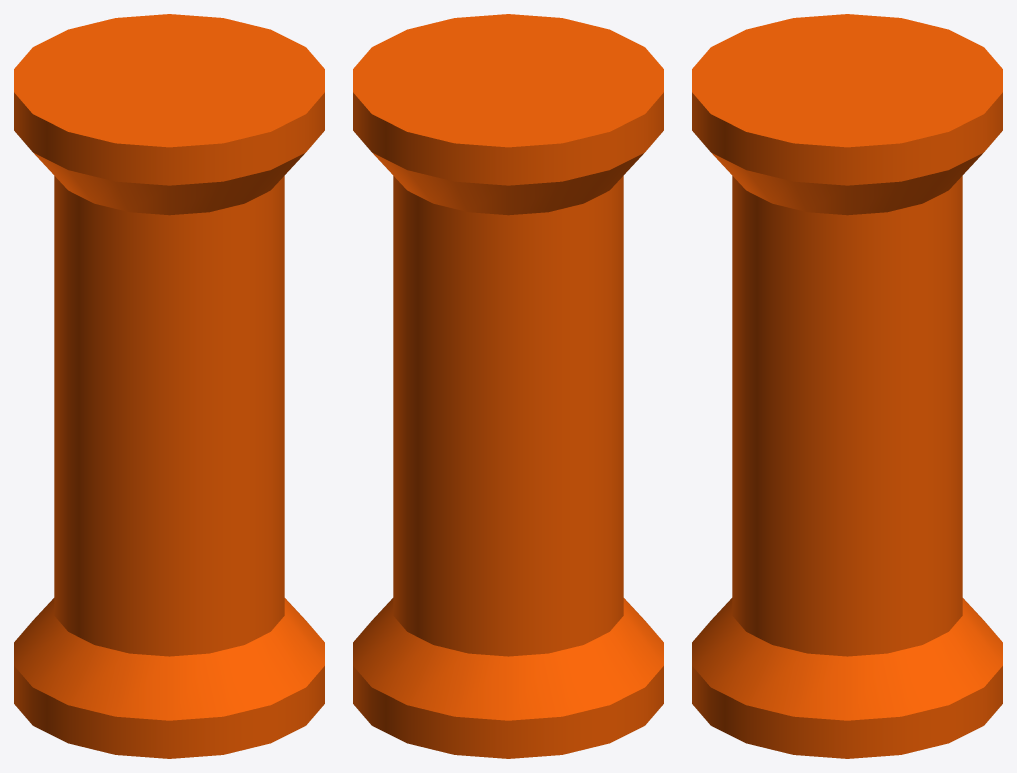
The model's file is prop_column.FBX.
The picture shows the model from 3 angles, left to right: view 1: azimuth 30°, elevation 25°; view 2: azimuth 150°, elevation 25°; view 3: azimuth 270°, elevation 25°; orthographic projection.
Visible parts, largest first — view 1: prop_column; view 2: prop_column; view 3: prop_column.
Boxes of the visible parts, x1=… form: prop_column: x1=14, y1=14, x2=324, y2=758; prop_column: x1=353, y1=14, x2=663, y2=758; prop_column: x1=692, y1=14, x2=1002, y2=758.
Size of the model in its own units: 1.4 by 3 by 1.38.
